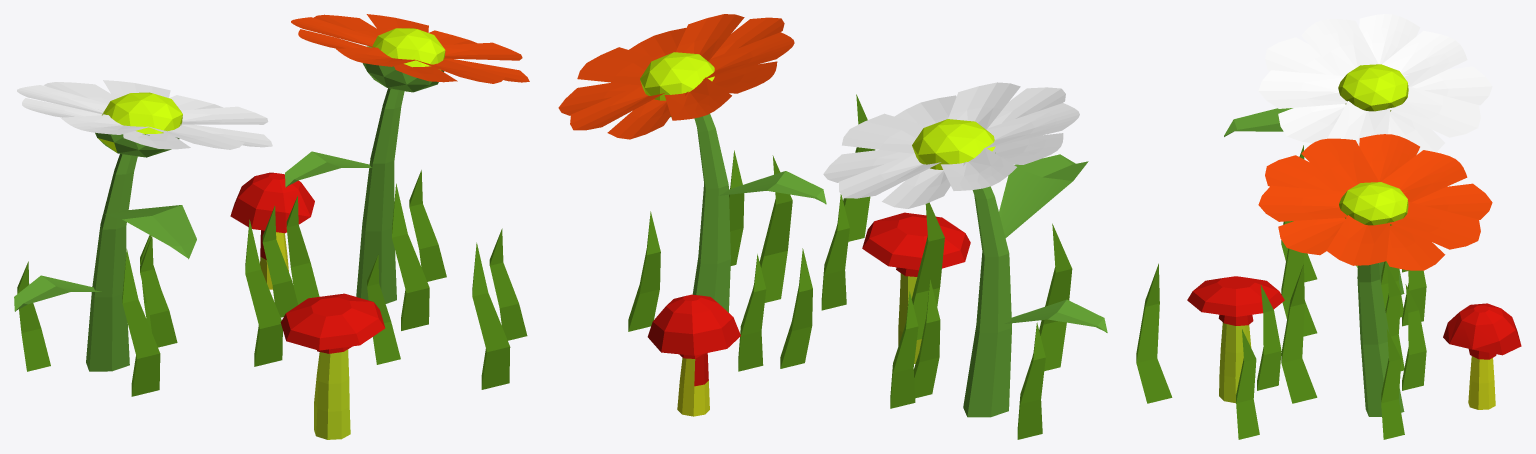
The model's file is flowers.FBX.
The picture shows the model from 3 angles, left to right: view 1: azimuth 30°, elevation 25°; view 2: azimuth 150°, elevation 25°; view 3: azimuth 270°, elevation 25°; orthographic projection. The views are drawn at different scales.
Parts seen in each view (by area): view 1: Flower03, Flower004, Circle, Grass002, Grass001, Grass004, Grass003, Circle_002, Plane001, Plane003, Plane002; view 2: Flower03, Flower004, Grass002, Grass003, Circle_002, Grass001, Circle, Grass004, Plane001, Plane003, Plane002; view 3: Flower004, Flower03, Grass002, Grass004, Circle, Circle_002, Grass003, Plane001, Grass001.
Boxes of the visible parts, box(x1,y1,x2,y2) form: Flower03: box(17, 80, 272, 371); Flower004: box(291, 14, 529, 303); Circle: box(280, 293, 385, 439); Grass002: box(286, 170, 446, 330); Grass001: box(17, 236, 177, 396); Grass004: box(367, 228, 527, 389); Grass003: box(140, 206, 298, 366); Circle_002: box(230, 172, 314, 289); Plane001: box(105, 205, 196, 259); Plane003: box(285, 151, 371, 187); Plane002: box(14, 275, 101, 311); Flower03: box(823, 82, 1079, 417); Flower004: box(558, 14, 794, 312); Grass002: box(628, 155, 792, 371); Grass003: box(780, 202, 944, 408); Circle_002: box(647, 294, 740, 416); Grass001: box(913, 223, 1072, 439); Circle: box(862, 212, 970, 363); Grass004: box(729, 94, 875, 310); Plane001: box(999, 154, 1088, 239); Plane003: box(719, 171, 826, 204); Plane002: box(1004, 299, 1107, 332); Flower004: box(1258, 134, 1492, 416); Flower03: box(1258, 14, 1492, 294); Grass002: box(1281, 263, 1426, 439); Grass004: box(1136, 263, 1281, 439); Circle: box(1187, 276, 1284, 403); Circle_002: box(1443, 303, 1521, 409); Grass003: box(1281, 248, 1426, 371); Plane001: box(1224, 108, 1292, 136); Grass001: box(1281, 145, 1408, 317).
Bounding box in the file's own units: 6.93 × 4.2 × 5.09.
